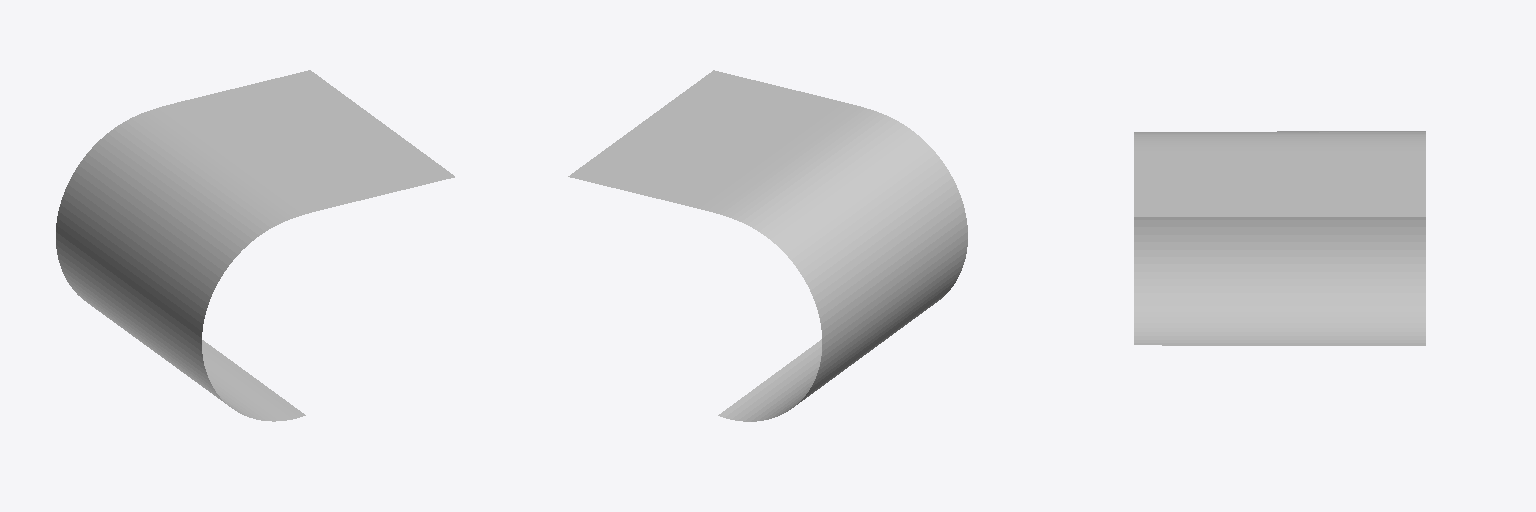
Rendered from CurvePaper_000038.obj.
3 views of the same model, side by side, from view 1: azimuth 30°, elevation 25°; view 2: azimuth 150°, elevation 25°; view 3: azimuth 270°, elevation 25° (orthographic).
Visible parts, largest first — view 1: Plane; view 2: Plane; view 3: Plane.
Boxes of the visible parts, box(x1,y1,x2,y2) form: Plane: box(56, 70, 454, 421); Plane: box(568, 70, 967, 421); Plane: box(1134, 131, 1425, 345).
Bounding box in the file's own units: 2.28 × 1.74 × 2.26.